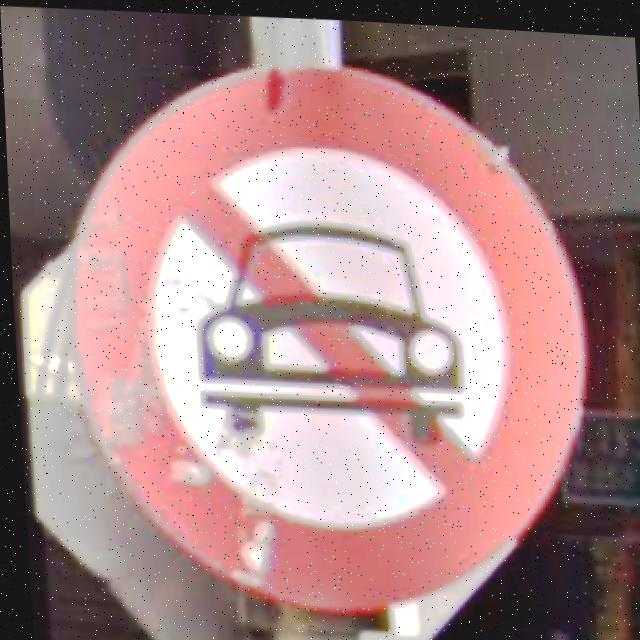nocar: (65, 63, 581, 609)
